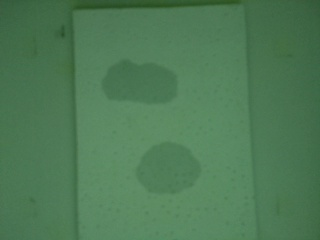Water_detected: (106, 67, 173, 103), (145, 151, 192, 192)
